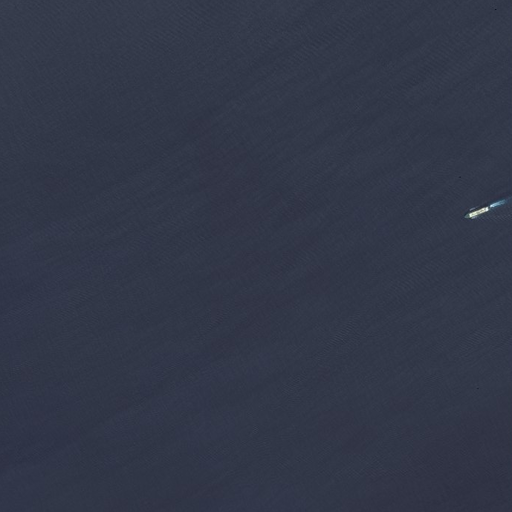ship: (462, 203, 491, 222)
